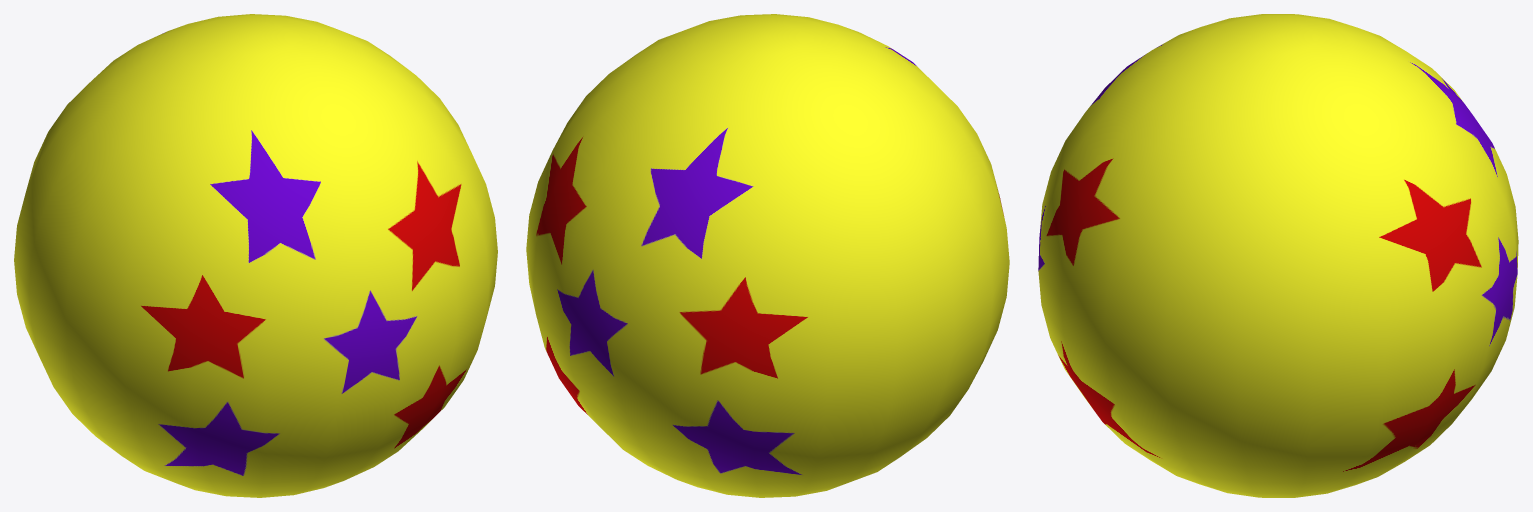
The model's file is pelota.obj.
3 renders of one model, left to right at view 1: azimuth 30°, elevation 25°; view 2: azimuth 150°, elevation 25°; view 3: azimuth 270°, elevation 25°, orthographic.
Parts seen in each view (by area): view 1: pelota:pasted__pSphere1group7; view 2: pelota:pasted__pSphere1group7; view 3: pelota:pasted__pSphere1group7.
Part boxes in pixels (x1,y1,x2,y2): pelota:pasted__pSphere1group7: (14,14,497,497); pelota:pasted__pSphere1group7: (526,14,1009,497); pelota:pasted__pSphere1group7: (1038,14,1518,497).
Size of the model in its own units: 0.5164 by 0.5218 by 0.5164.
